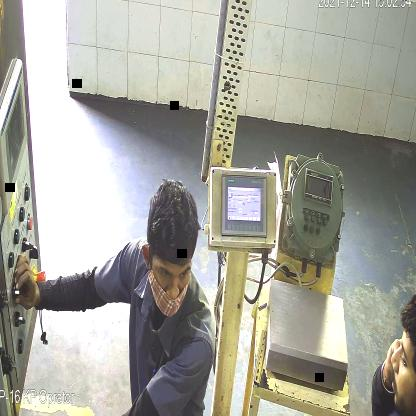no_goggles: (152, 260, 192, 289)
